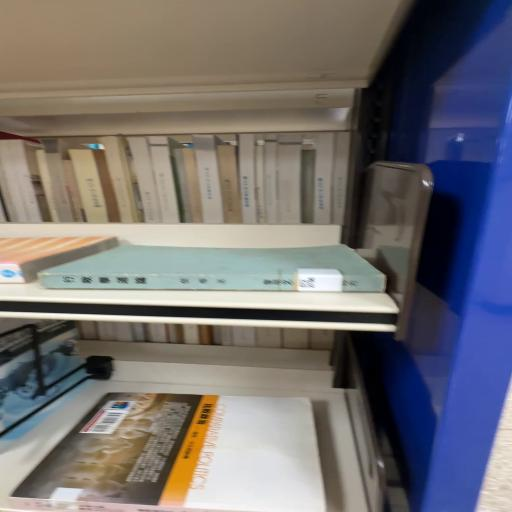flat: (9, 393, 328, 512), (40, 245, 386, 294)
